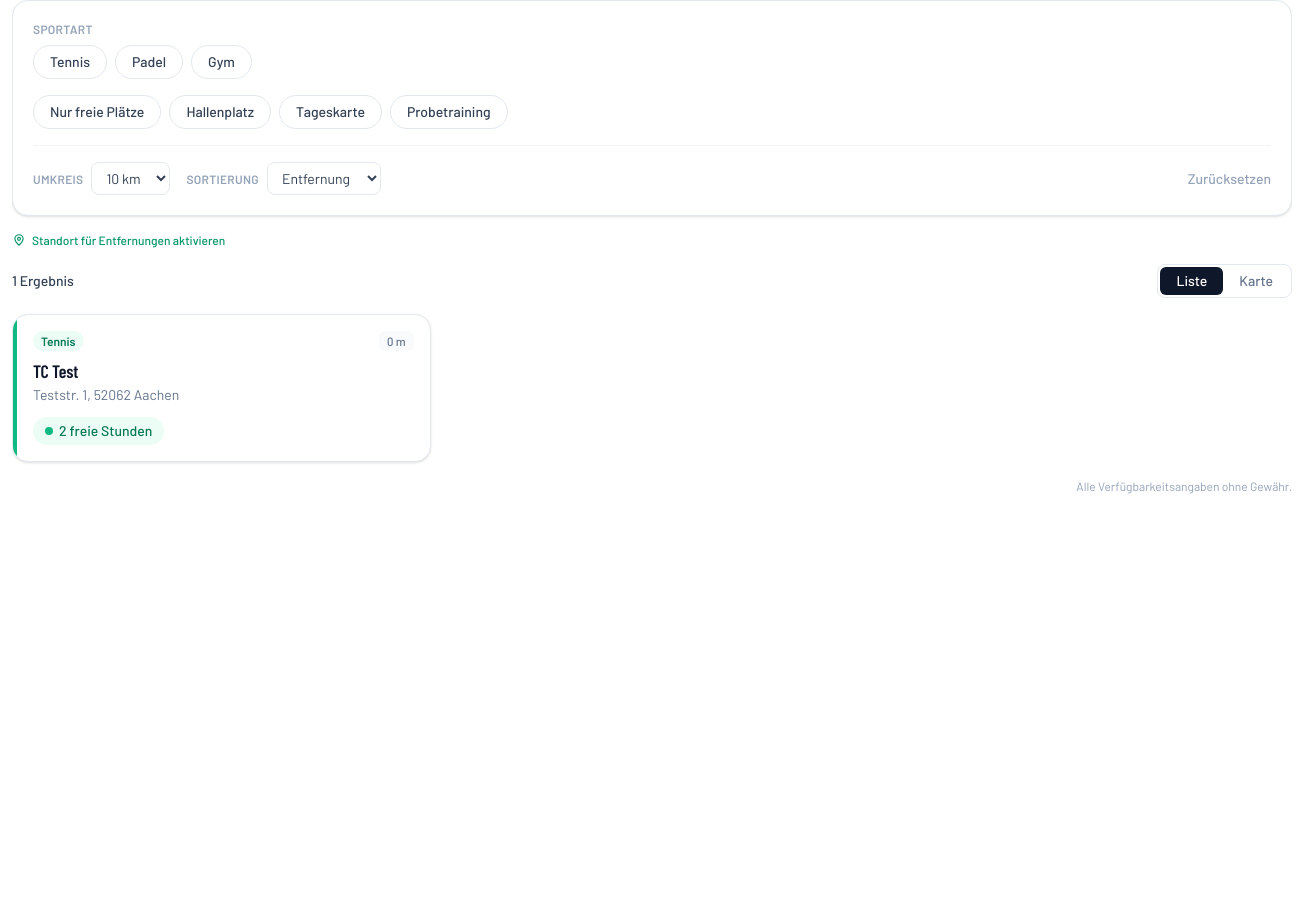
it: VenueList tab toggle › switches to Karte tab on click
This screenshot has width=1304, height=900.
Click the button "Karte" at (1256, 281), box [1223,267,1289,295]
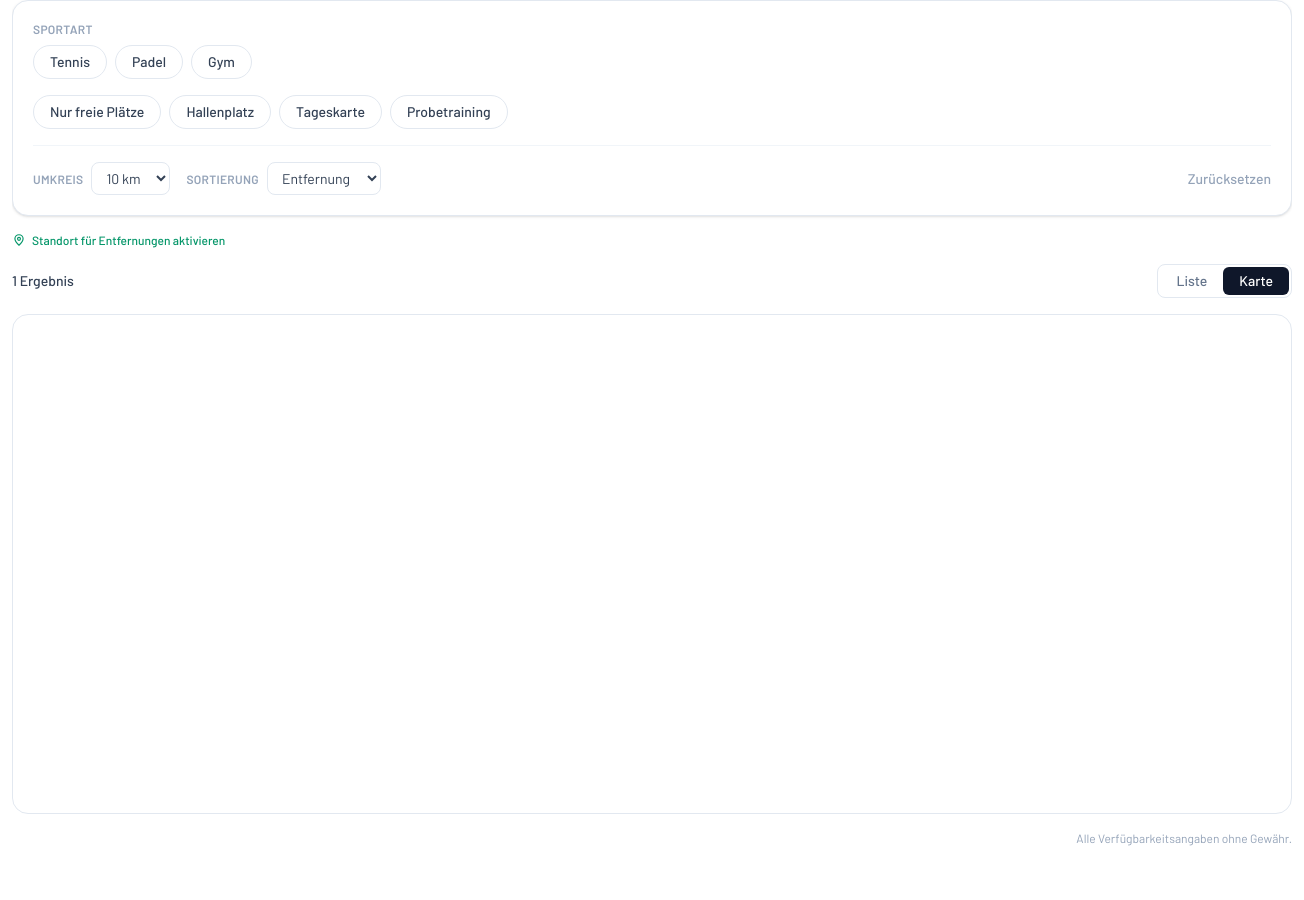
Expected: the link "TC Test" is gone
